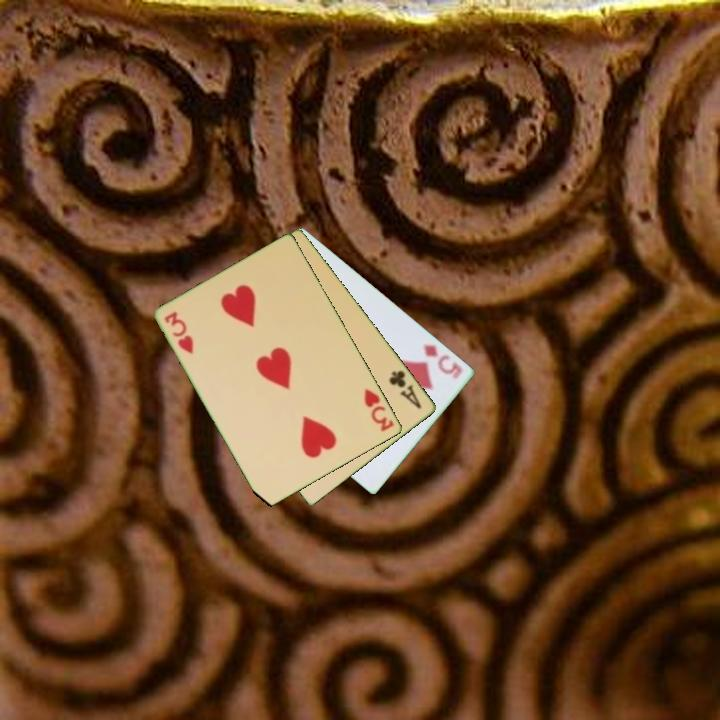3h: (361, 385, 397, 435), (161, 308, 197, 357)
5d: (421, 340, 466, 382)
Ac: (386, 366, 425, 412)
